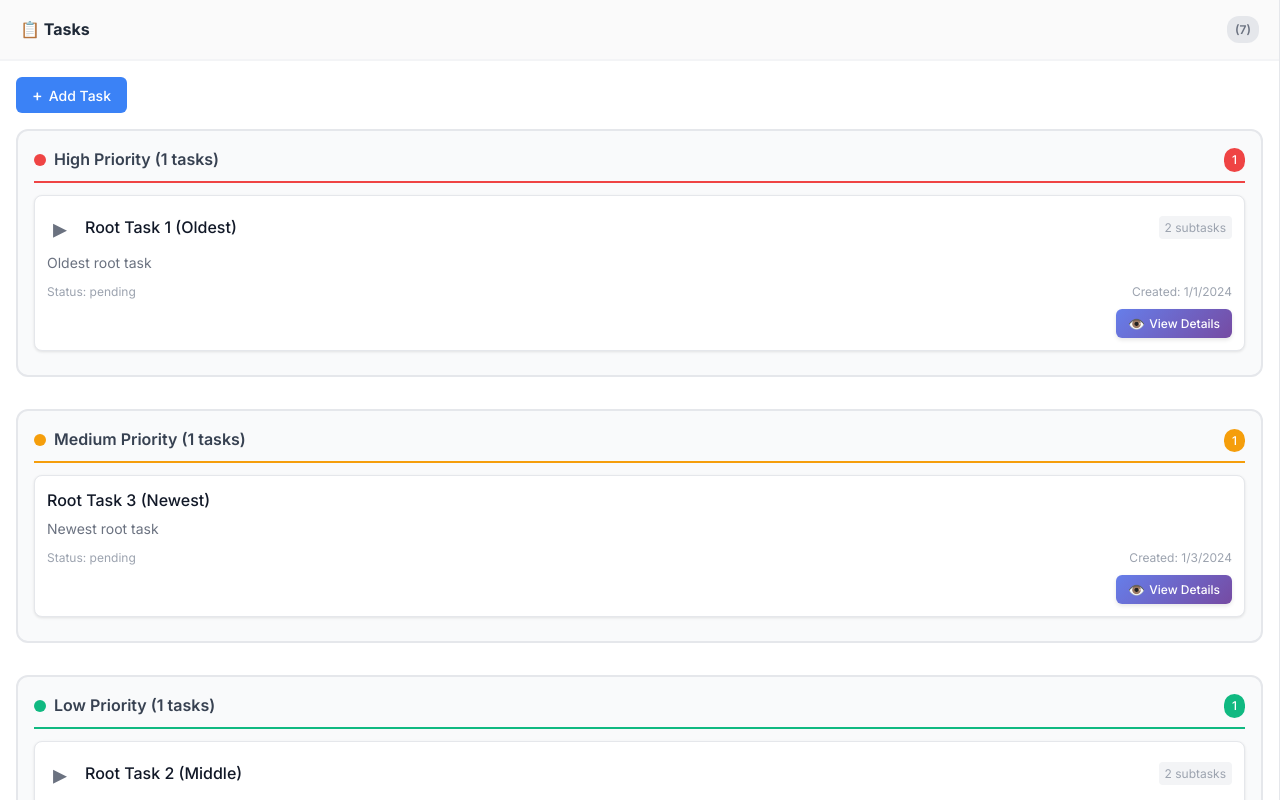
Task Sorting Integration › should display complex task hierarchy in correct chronological order
The width and height of the screenshot is (1280, 800).
Expected: the text "Root Task 2 (Middle)" is shown, [85,763,242,783]
Expected: the text "Root Task 3 (Newest)" is shown, [47,490,210,510]
Note: Expand first root task and verify children order
Click the text "Root Task 1 (Oldest)" at {"x": 161, "y": 227}, box [85,217,237,237]
(page scrolled)
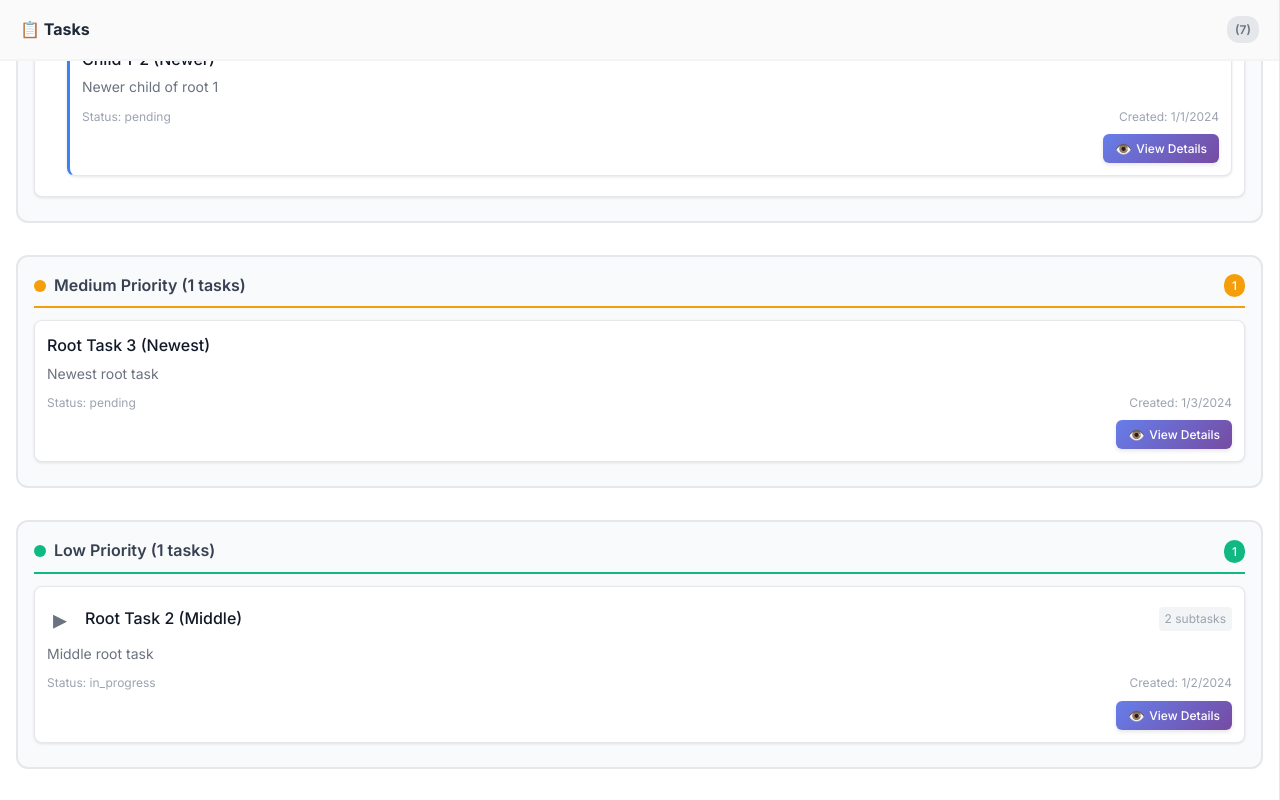
Note: Expand second root task and verify children order
Click the text "Root Task 2 (Middle)" at {"x": 164, "y": 618}, box [85,608,242,628]
(page scrolled)
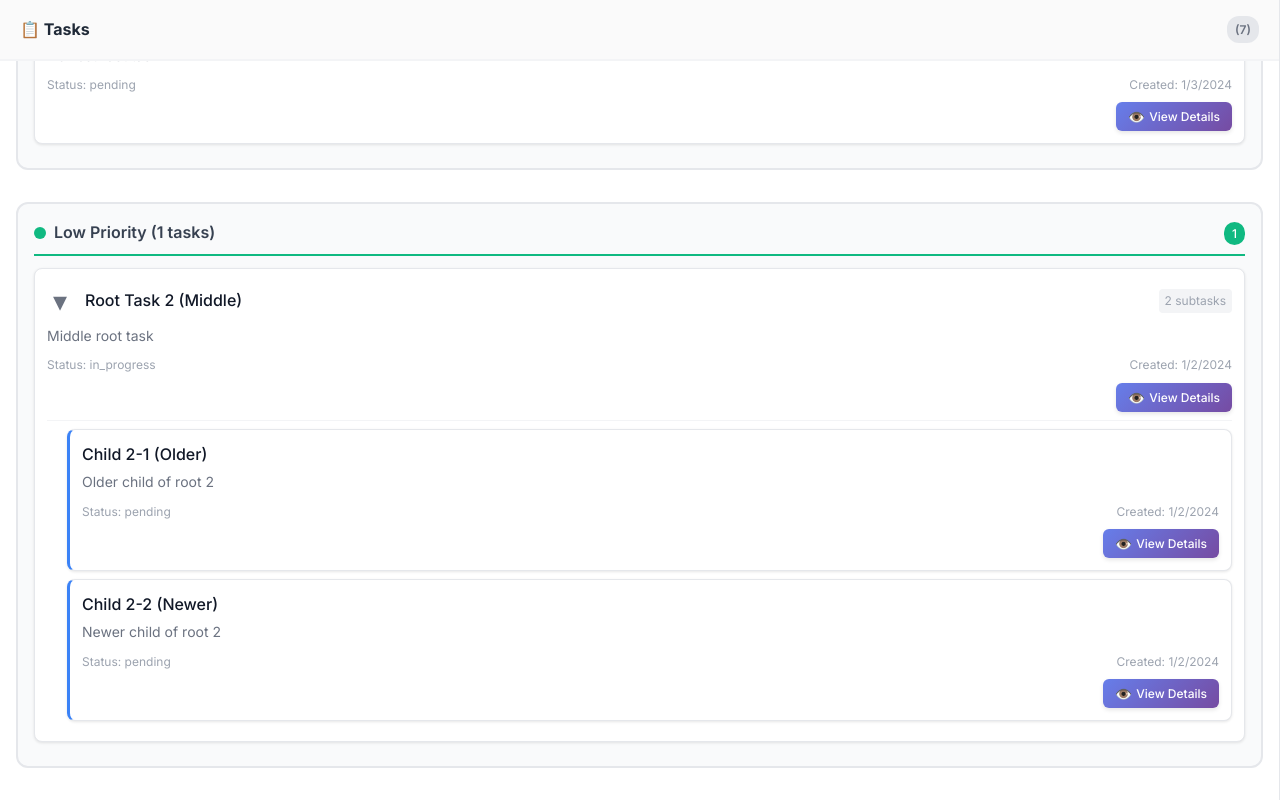
Now the text "Child 2-1 (Older)" is shown, box [82,444,207,464]
Now the text "Child 2-2 (Newer)" is shown, box [82,594,218,614]
